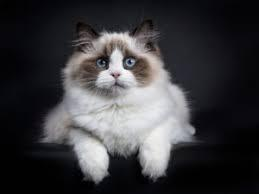ragdoll: (63, 6, 168, 116)
